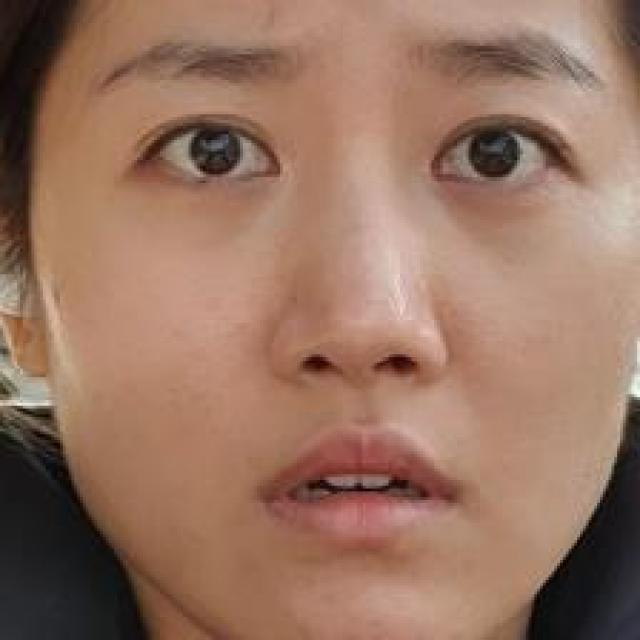fear: (72, 19, 608, 620)
